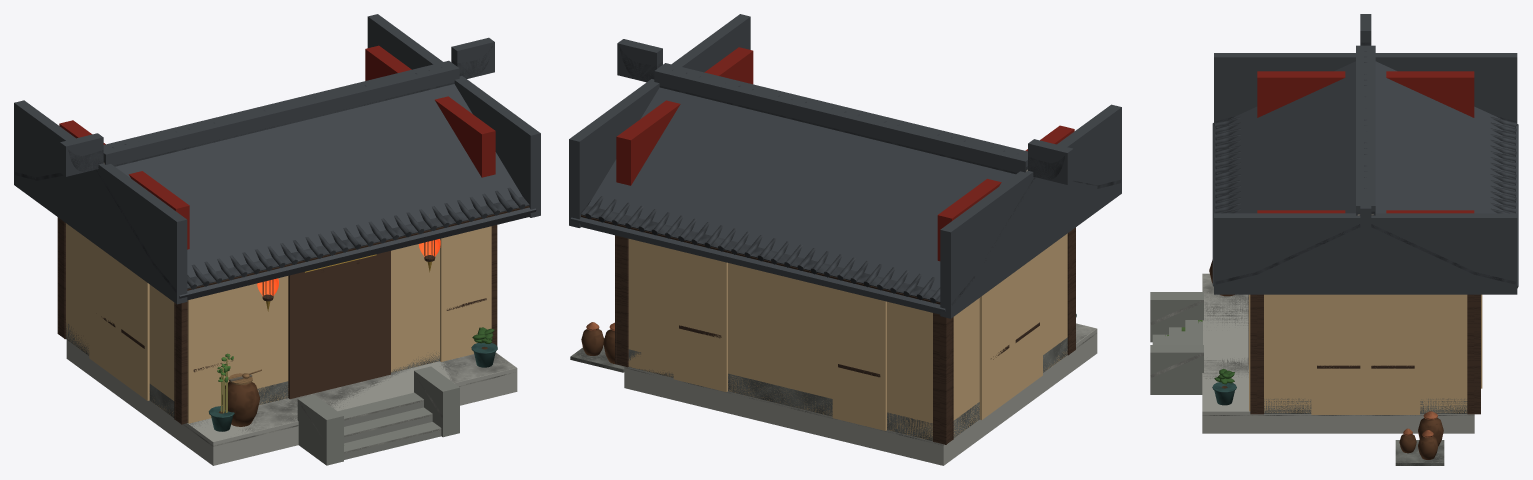
The model's file is kit_artisan_ochre.gltf.
3 views of the same model, side by side, from view 1: azimuth 30°, elevation 25°; view 2: azimuth 150°, elevation 25°; view 3: azimuth 270°, elevation 25° (orthographic). The views are drawn at different scales.
Visible parts, largest first — view 1: Far, Near, Detail; view 2: Far, Near, Detail; view 3: Far, Near, Detail.
Part boxes in pixels (box(x1,y1,x2,y2)): Far: box(14, 14, 540, 465); Near: box(15, 46, 529, 453); Detail: box(208, 215, 497, 431); Far: box(569, 14, 1121, 465); Near: box(580, 47, 1120, 445); Detail: box(570, 314, 1076, 372); Far: box(1150, 14, 1518, 433); Near: box(1150, 42, 1516, 415); Detail: box(1209, 260, 1444, 465).
Bounding box in the file's own units: 8.59 × 5.18 × 6.79.
Materials: 25 (24 with a texture image).
